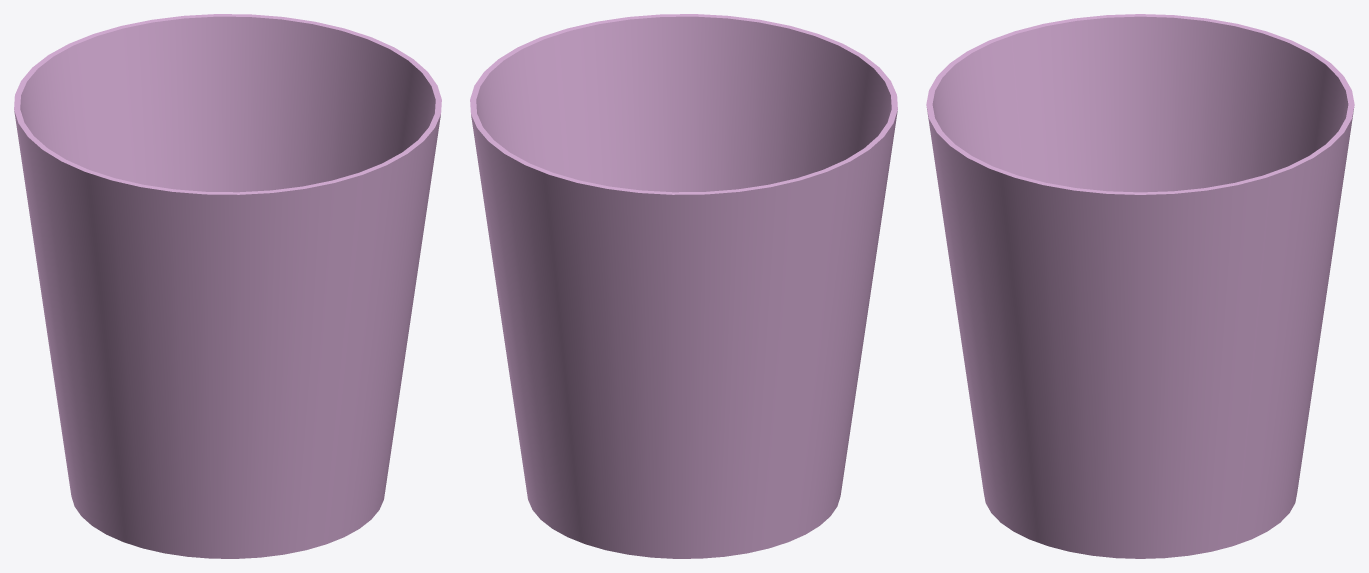
The model's file is GarbageCanFinal.fbx.
The picture shows the model from 3 angles, left to right: view 1: azimuth 30°, elevation 25°; view 2: azimuth 150°, elevation 25°; view 3: azimuth 270°, elevation 25°; orthographic projection.
Parts seen in each view (by area): view 1: pCylinder4; view 2: pCylinder4; view 3: pCylinder4.
Part boxes in pixels (x1,y1,x2,y2): pCylinder4: (14,14,441,558); pCylinder4: (470,14,897,558); pCylinder4: (926,14,1354,558).
Size of the model in its own units: 0.2942 by 0.2942 by 0.2942.
